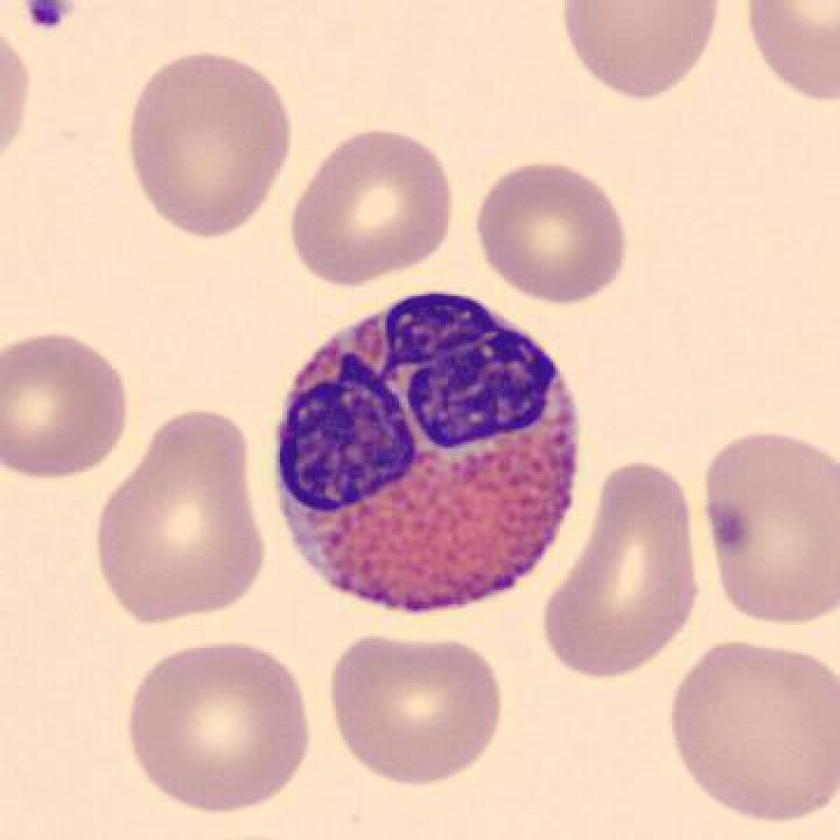eosinophil: (262, 283, 596, 621)
